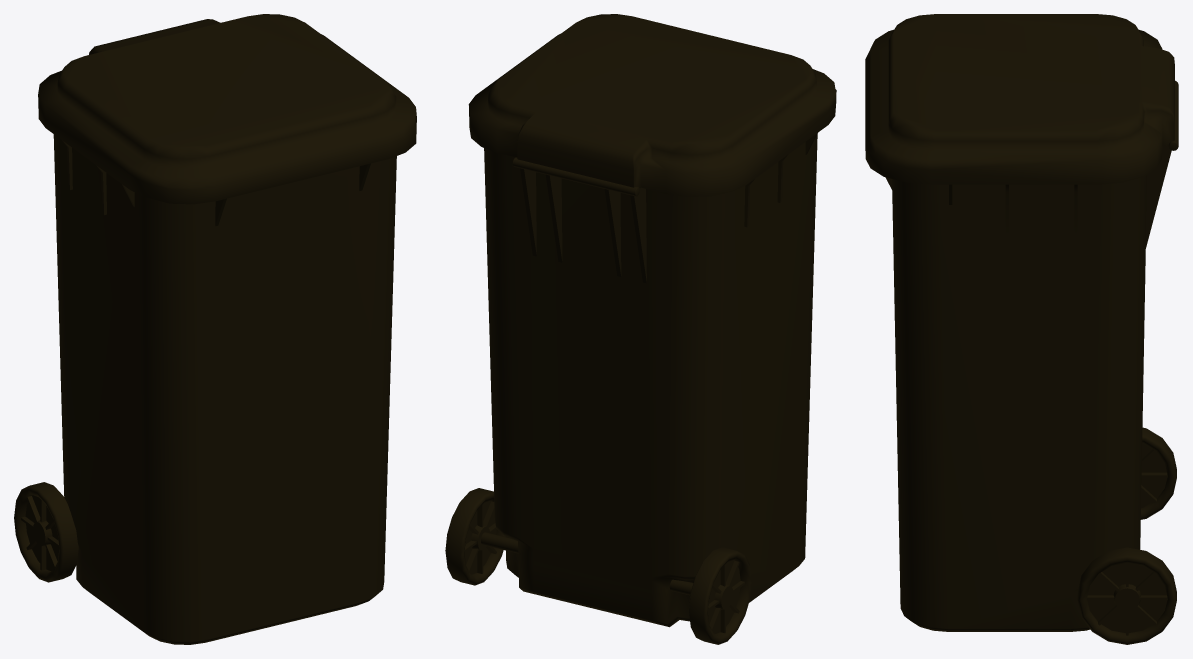
The model's file is TrashBin.fbx.
3 views of the same model, side by side, from view 1: azimuth 30°, elevation 25°; view 2: azimuth 150°, elevation 25°; view 3: azimuth 270°, elevation 25° (orthographic). The views are drawn at different scales.
Visible parts, largest first — view 1: Black_Trash_Bin; view 2: Black_Trash_Bin; view 3: Black_Trash_Bin.
Boxes of the visible parts, x1,y1,x2,y2 form: Black_Trash_Bin: (14,14,416,644); Black_Trash_Bin: (445,14,836,644); Black_Trash_Bin: (865,14,1178,644).
Bounding box in the file's own units: 57.66 × 100 × 55.88.
